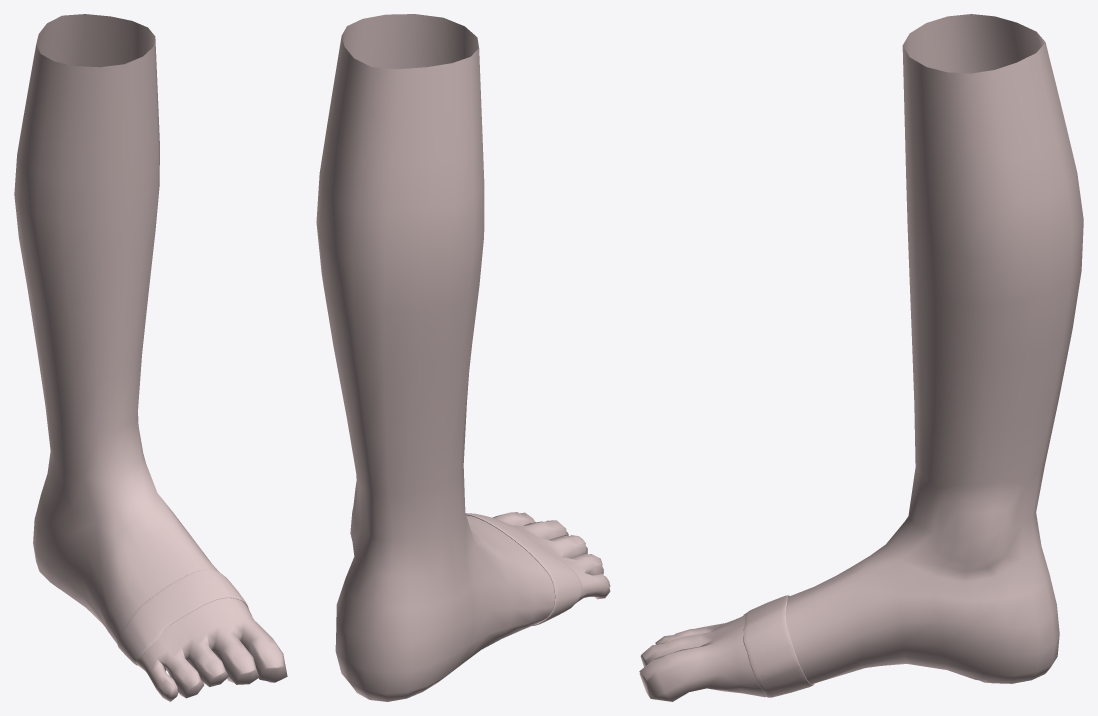
Rendered from LacFootWrap1.fbx.
3 renders of one model, left to right at view 1: azimuth 30°, elevation 25°; view 2: azimuth 150°, elevation 25°; view 3: azimuth 270°, elevation 25°, orthographic. The views are drawn at different scales.
Visible parts, largest first — view 1: pCube12, polySurface4; view 2: pCube12, polySurface4; view 3: pCube12, polySurface4.
Part boxes in pixels (x1,y1,x2,y2): pCube12: [14, 14, 287, 701]; polySurface4: [117, 569, 248, 665]; pCube12: [316, 14, 610, 701]; polySurface4: [465, 513, 582, 625]; pCube12: [639, 14, 1083, 701]; polySurface4: [743, 595, 814, 697].
Size of the model in its own units: 1.12 by 4.63 by 2.9.
